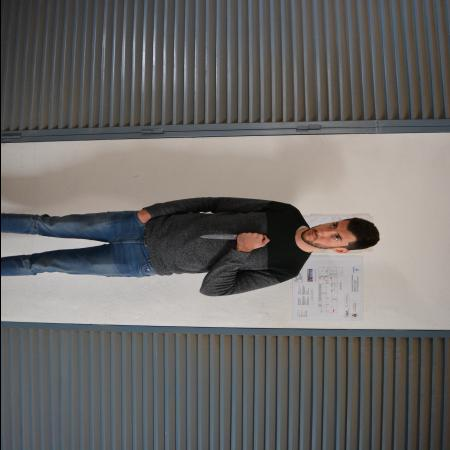long weapon: (198, 231, 272, 244)
